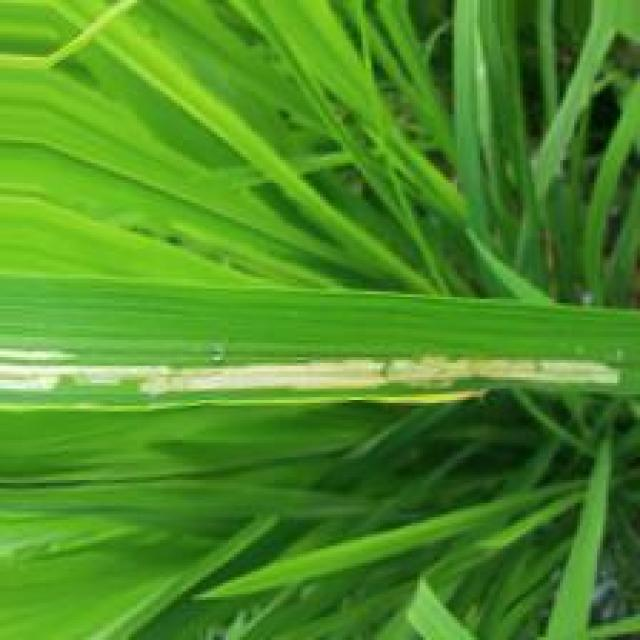Rice_Hispa: (0, 347, 625, 403)
